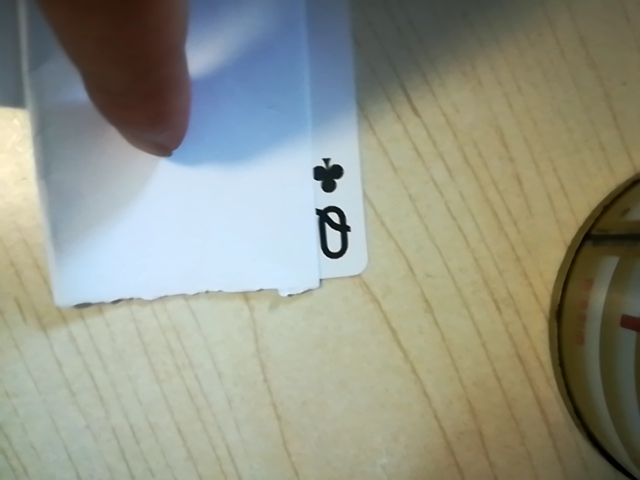mh q: (296, 141, 360, 268)
